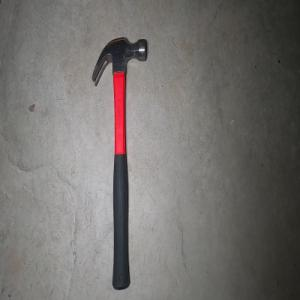Hammer: (90, 35, 147, 290)
